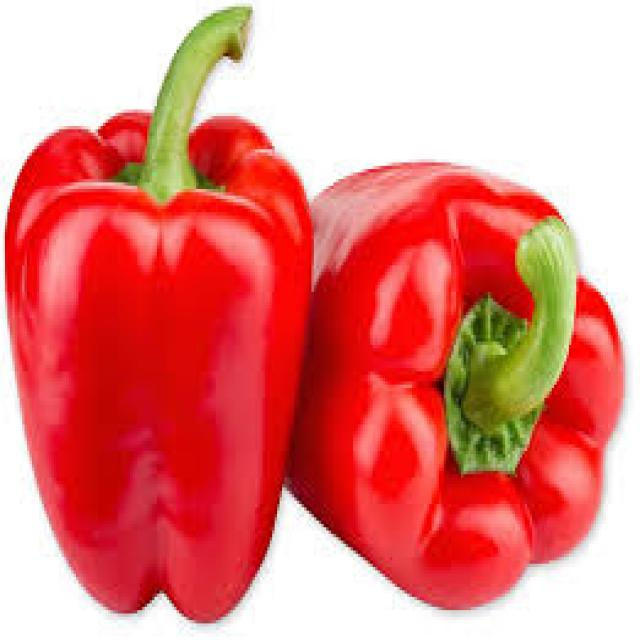Bell pepper: (0, 4, 318, 624), (288, 142, 631, 623)
